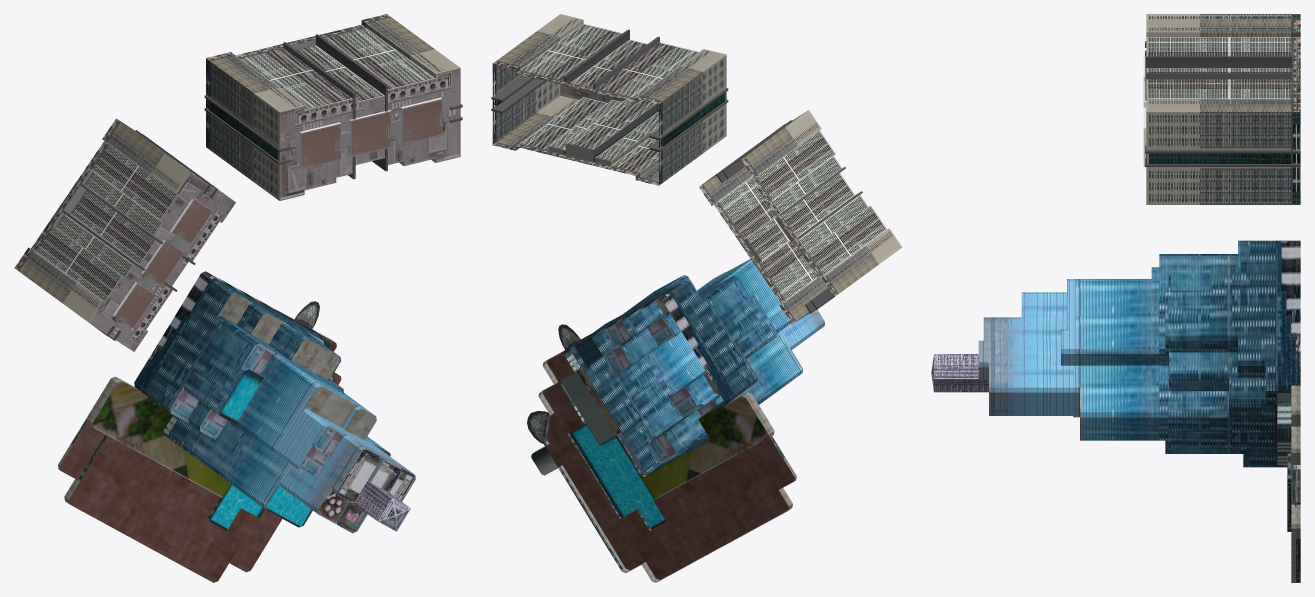
3 renders of one model, left to right at view 1: azimuth 30°, elevation 25°; view 2: azimuth 150°, elevation 25°; view 3: azimuth 270°, elevation 25°, orthographic. The views are drawn at different scales.
Parts seen in each view (by area): view 1: 5ee33358a3a6ae49e19e0148, Landmark_4_5_6, Landmark_4_5_6.001; view 2: 5ee33358a3a6ae49e19e0148, Landmark_4_5_6, Landmark_4_5_6.001; view 3: 5ee33358a3a6ae49e19e0148, Landmark_4_5_6, Landmark_4_5_6.001.
Part boxes in pixels (x1=…): 5ee33358a3a6ae49e19e0148: x1=58, y1=271, x2=415, y2=582; Landmark_4_5_6: x1=204, y1=14, x2=462, y2=200; Landmark_4_5_6.001: x1=14, y1=118, x2=235, y2=351; 5ee33358a3a6ae49e19e0148: x1=527, y1=259, x2=824, y2=582; Landmark_4_5_6: x1=491, y1=14, x2=728, y2=185; Landmark_4_5_6.001: x1=699, y1=110, x2=902, y2=324; 5ee33358a3a6ae49e19e0148: x1=931, y1=240, x2=1300, y2=582; Landmark_4_5_6: x1=1143, y1=19, x2=1300, y2=204; Landmark_4_5_6.001: x1=1143, y1=14, x2=1300, y2=55.
Bounding box in the file's own units: 489 × 653 × 400.
Materials: 3 (3 with a texture image).
